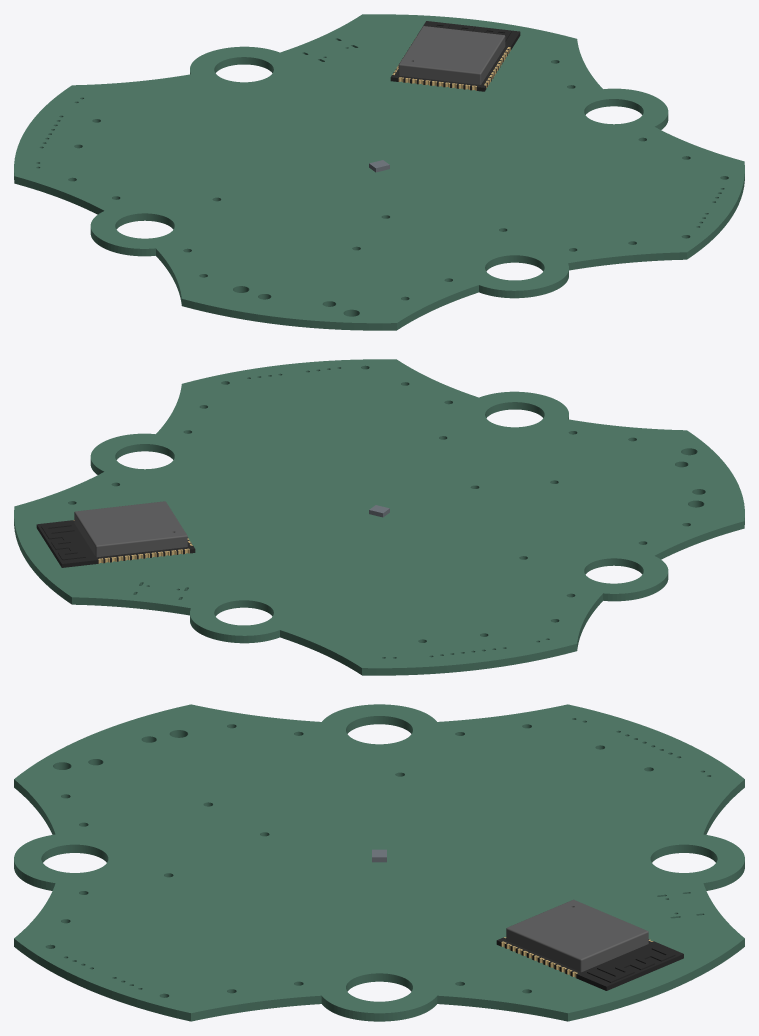
File: board.glb
3 renders of one model, top to bottom at view 1: azimuth 30°, elevation 25°; view 2: azimuth 150°, elevation 25°; view 3: azimuth 270°, elevation 25°, orthographic. The views are drawn at different scales.
Visible parts, largest first — view 1: flight_computer_starpi_v1.5_PCB, ESP32-S3-WROOM-1; view 2: flight_computer_starpi_v1.5_PCB, ESP32-S3-WROOM-1; view 3: flight_computer_starpi_v1.5_PCB, ESP32-S3-WROOM-1.
Boxes of the visible parts, x1,y1,x2,y2 form: flight_computer_starpi_v1.5_PCB: (14,14,744,330); ESP32-S3-WROOM-1: (390,21,520,91); flight_computer_starpi_v1.5_PCB: (14,359,744,675); ESP32-S3-WROOM-1: (36,501,195,567); flight_computer_starpi_v1.5_PCB: (14,704,744,1021); ESP32-S3-WROOM-1: (496,899,683,990).
Bounding box in the file's own units: 0.12 × 0.0047 × 0.12.
